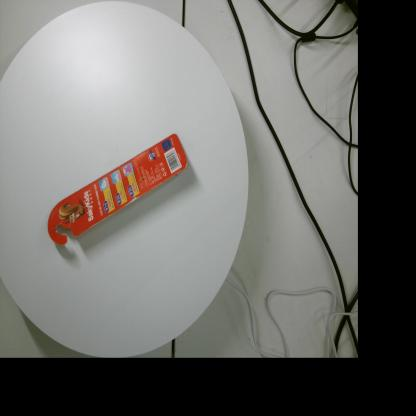Personal Hygiene: (47, 134, 189, 245)
